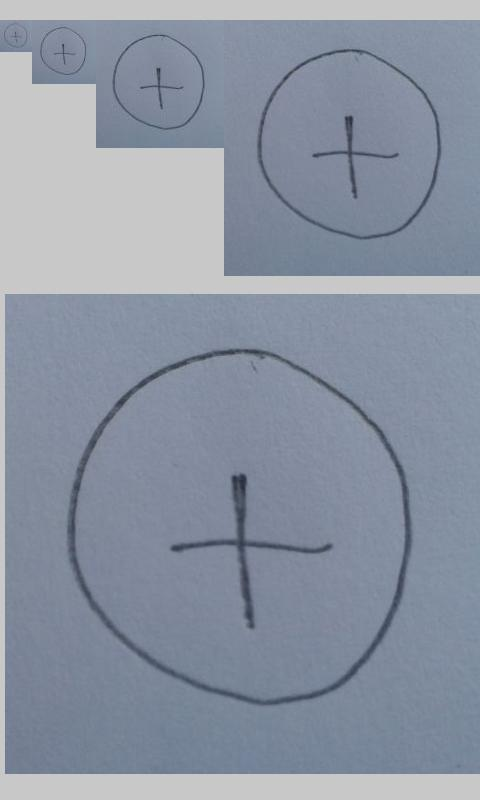button: (66, 345, 415, 707), (256, 47, 442, 241), (112, 34, 206, 131), (40, 26, 87, 76), (3, 22, 28, 48)
